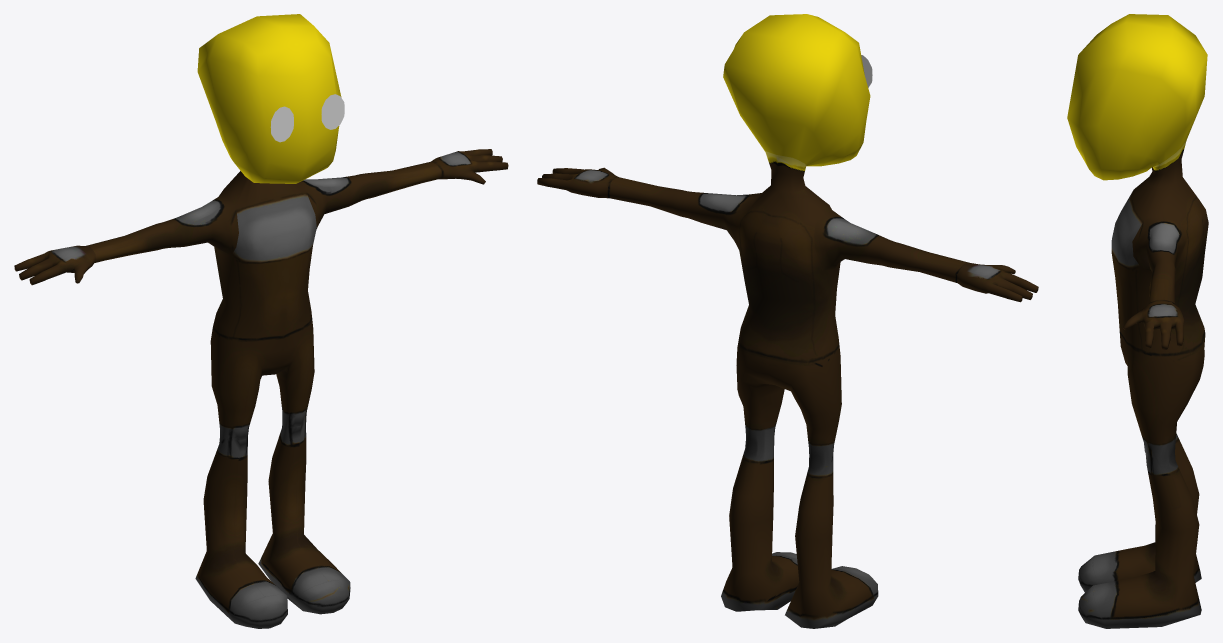
Rendered from player.fbx.
The picture shows the model from 3 angles, left to right: view 1: azimuth 30°, elevation 25°; view 2: azimuth 150°, elevation 25°; view 3: azimuth 270°, elevation 25°; orthographic projection.
Visible parts, largest first — view 1: playerBody1; view 2: playerBody1; view 3: playerBody1.
Part boxes in pixels (bbox=[...]): playerBody1: bbox=[14, 14, 508, 628]; playerBody1: bbox=[537, 14, 1038, 628]; playerBody1: bbox=[1067, 14, 1208, 628].
Size of the model in its own units: 541 by 626 by 137.
